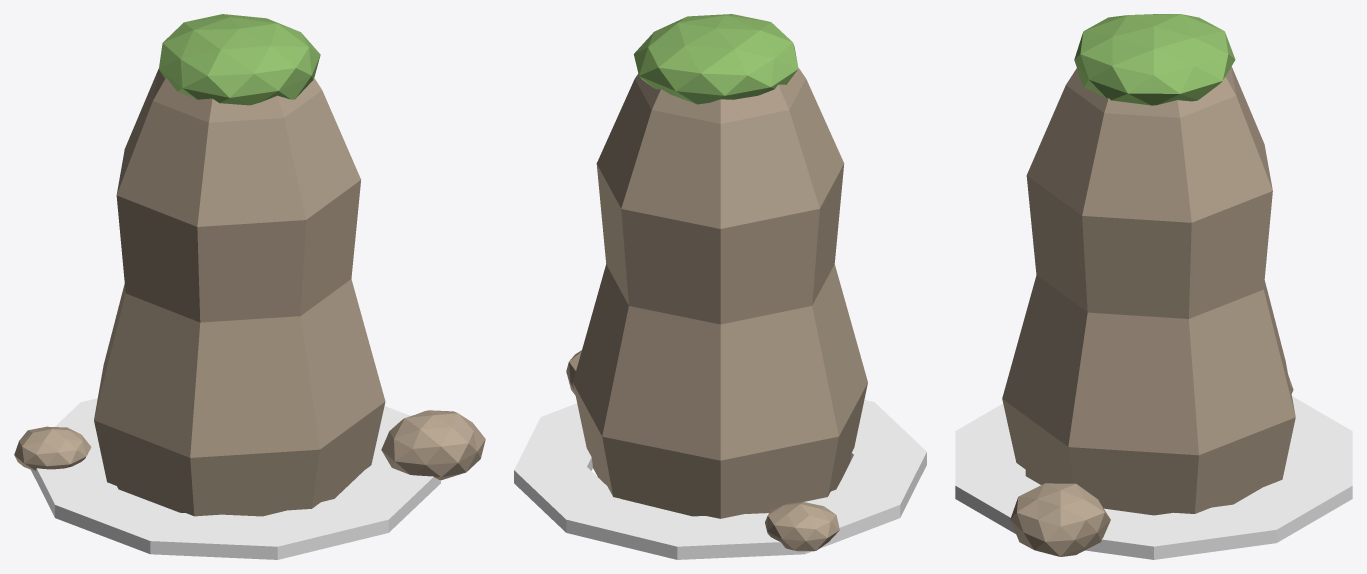
The model's file is sea-stack.glb.
3 views of the same model, side by side, from view 1: azimuth 30°, elevation 25°; view 2: azimuth 150°, elevation 25°; view 3: azimuth 270°, elevation 25° (orthographic).
Visible parts, largest first — view 1: ocean-sea-stack; view 2: ocean-sea-stack; view 3: ocean-sea-stack.
Part boxes in pixels (<box>): ocean-sea-stack: <box>14,14,485,559</box>; ocean-sea-stack: <box>514,14,926,559</box>; ocean-sea-stack: <box>955,14,1352,559</box>.
Size of the model in its own units: 1.78 by 2.02 by 1.62.
